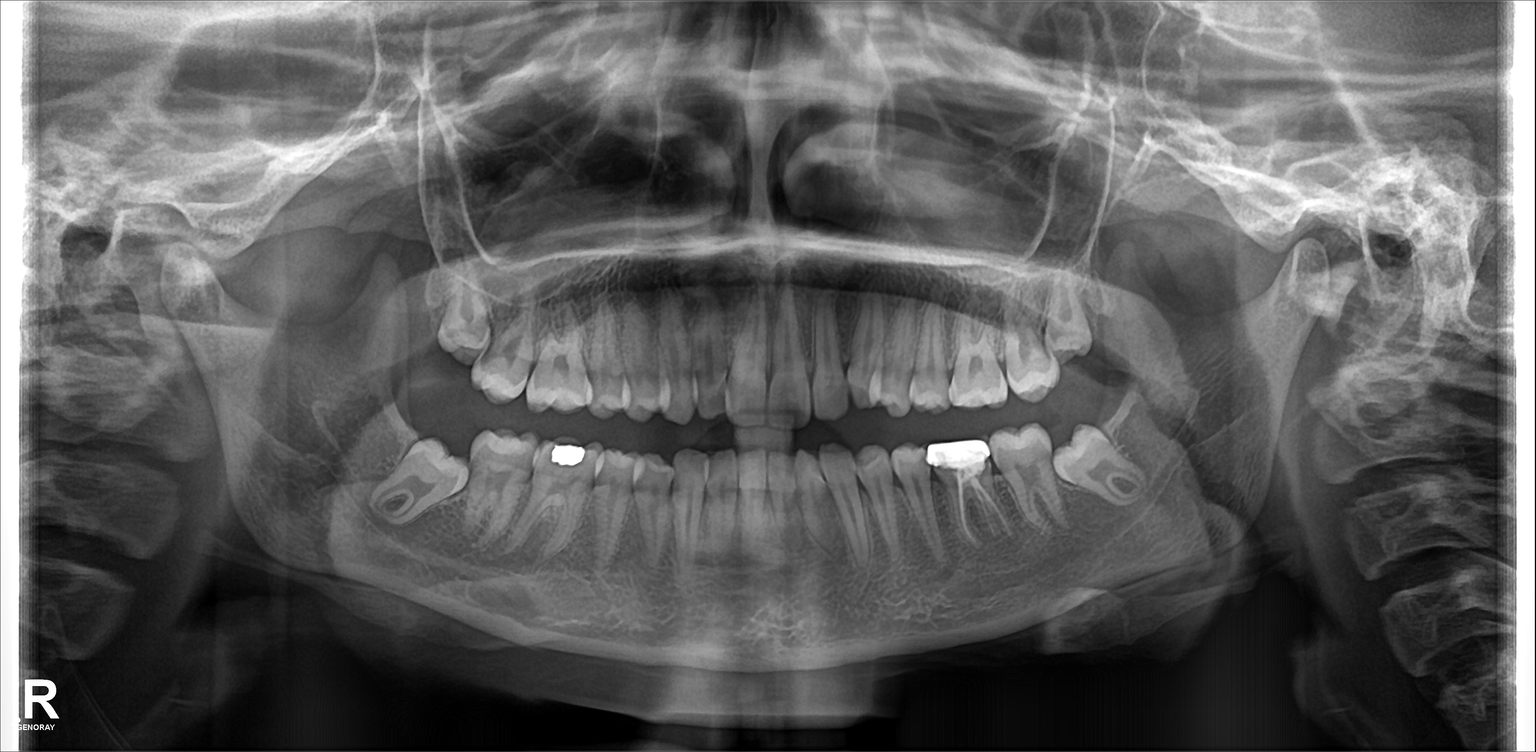Endodontically Treated Tooth: (934, 445, 1007, 554)
Impacted Third Molar: (380, 439, 471, 511), (1065, 426, 1147, 502), (417, 277, 487, 359), (1043, 287, 1110, 359)
